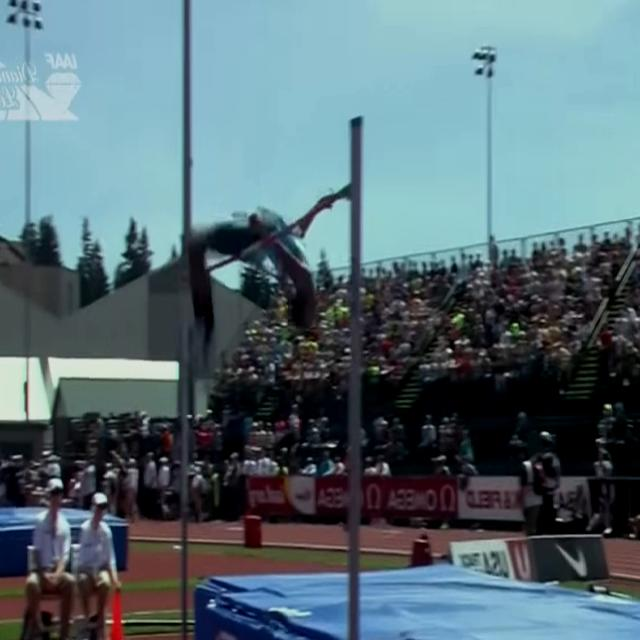jump: (189, 188, 335, 374)
